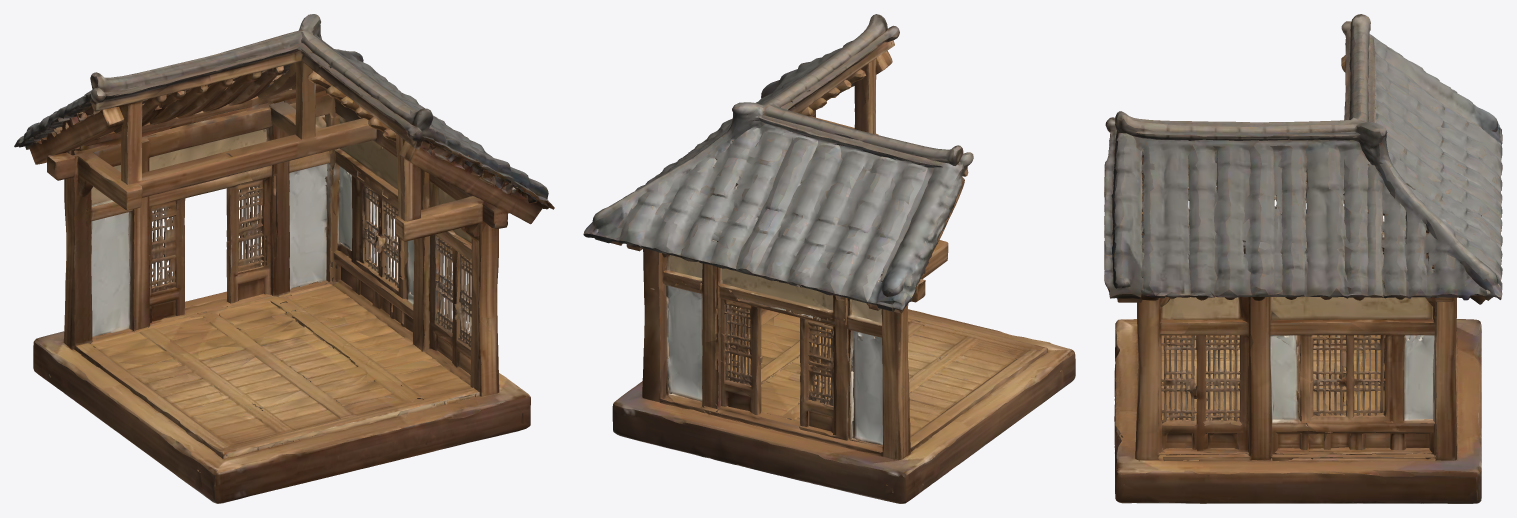
Rendered from room-hanok.glb.
The picture shows the model from 3 angles, left to right: view 1: azimuth 30°, elevation 25°; view 2: azimuth 150°, elevation 25°; view 3: azimuth 270°, elevation 25°; orthographic projection. The views are drawn at different scales.
Parts seen in each view (by area): view 1: geometry_0; view 2: geometry_0; view 3: geometry_0.
Boxes of the visible parts, bbox=[...] form: geometry_0: bbox=[14, 14, 554, 503]; geometry_0: bbox=[583, 14, 1075, 503]; geometry_0: bbox=[1104, 14, 1502, 503].
Size of the model in its own units: 0.3 by 0.2859 by 0.3001.
1 material, 1 textured.
